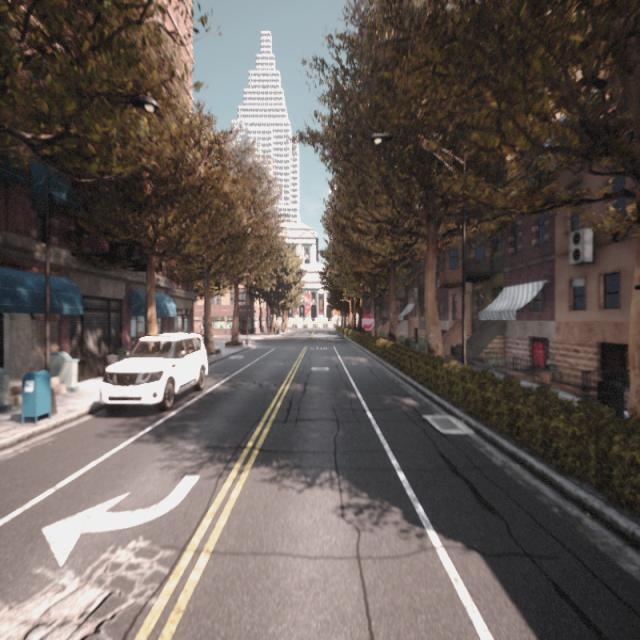stop sign: (359, 310, 375, 332)
